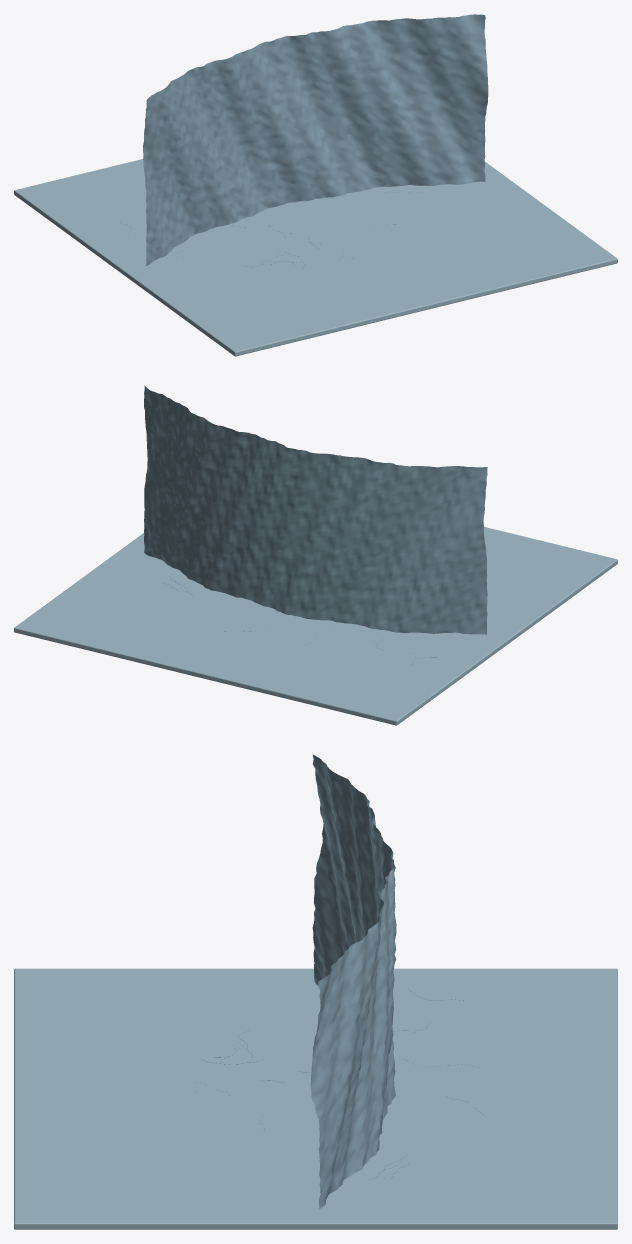
The model's file is ice-environment.glb.
3 renders of one model, top to bottom at view 1: azimuth 30°, elevation 25°; view 2: azimuth 150°, elevation 25°; view 3: azimuth 270°, elevation 25°, orthographic. The views are drawn at different scales.
Parts seen in each view (by area): view 1: Ice floor slab, Sculpted glacier backdrop; view 2: Sculpted glacier backdrop, Ice floor slab; view 3: Ice floor slab, Sculpted glacier backdrop.
Part boxes in pixels (x1=…): Ice floor slab: x1=14, y1=159, x2=617, y2=356; Sculpted glacier backdrop: x1=143, y1=14, x2=488, y2=265; Sculpted glacier backdrop: x1=144, y1=386, x2=487, y2=634; Ice floor slab: x1=14, y1=527, x2=617, y2=725; Ice floor slab: x1=14, y1=968, x2=617, y2=1229; Sculpted glacier backdrop: x1=310, y1=754, x2=396, y2=1208.
Size of the model in its own units: 36 by 15.44 by 36.
